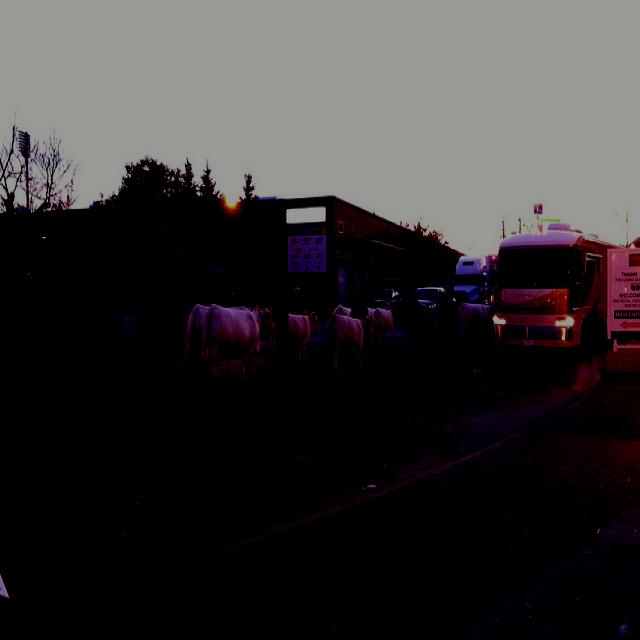Vehicle: (494, 232, 612, 360), (454, 253, 496, 309), (402, 286, 448, 331), (366, 274, 416, 308)
